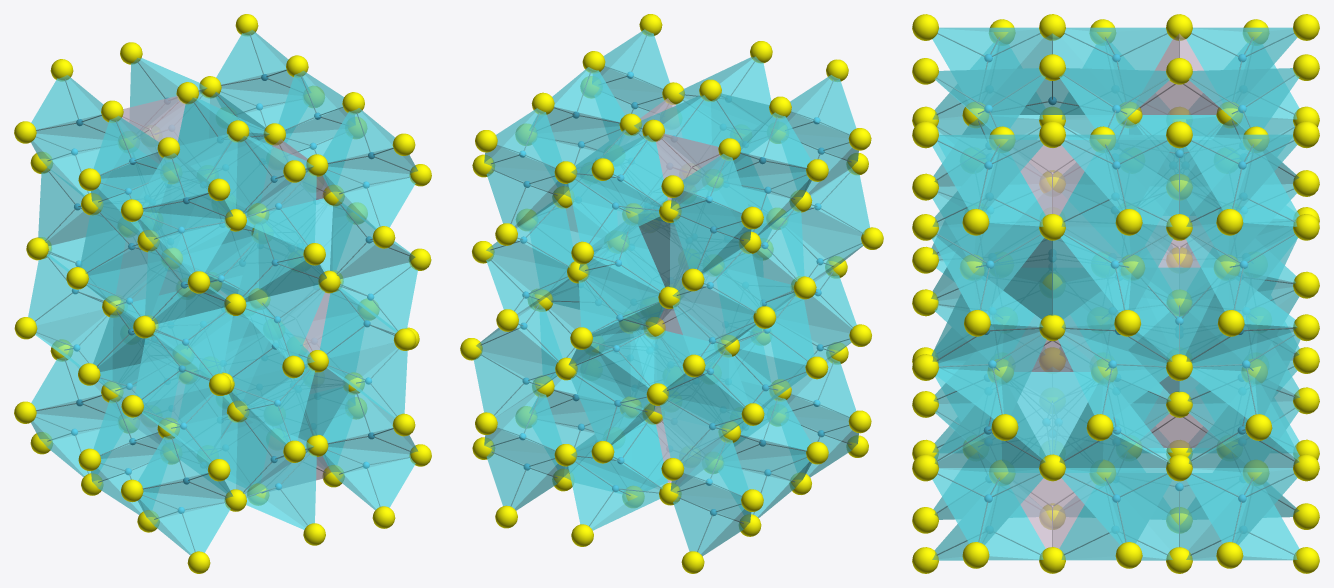
File: Li10GeP2S12.glb
The picture shows the model from 3 angles, left to right: view 1: azimuth 30°, elevation 25°; view 2: azimuth 150°, elevation 25°; view 3: azimuth 270°, elevation 25°; orthographic projection. The views are drawn at different scales.
Visible parts, largest first — view 1: Shape_IndexedFaceSet, atom7_IndexedFaceSet, Shape_IndexedFaceSet.376, Shape_Cylinder, atom0_IndexedFaceSet; view 2: Shape_IndexedFaceSet, atom7_IndexedFaceSet, Shape_IndexedFaceSet.376, Shape_Cylinder, atom0_IndexedFaceSet; view 3: Shape_IndexedFaceSet, atom7_IndexedFaceSet, Shape_IndexedFaceSet.376, Shape_Cylinder, atom0_IndexedFaceSet.
Boxes of the visible parts, box(x1,y1,x2,y2) form: Shape_IndexedFaceSet: box(28, 30, 417, 555); atom7_IndexedFaceSet: box(14, 14, 431, 573); Shape_IndexedFaceSet.376: box(116, 96, 343, 491); Shape_Cylinder: box(35, 34, 411, 551); atom0_IndexedFaceSet: box(71, 74, 374, 513); Shape_IndexedFaceSet: box(473, 29, 869, 556); atom7_IndexedFaceSet: box(460, 14, 883, 573); Shape_IndexedFaceSet.376: box(620, 98, 725, 486); Shape_Cylinder: box(480, 34, 862, 551); atom0_IndexedFaceSet: box(519, 71, 824, 516); Shape_IndexedFaceSet: box(931, 27, 1300, 560); atom7_IndexedFaceSet: box(912, 14, 1319, 573); Shape_IndexedFaceSet.376: box(1008, 33, 1221, 548); Shape_Cylinder: box(936, 33, 1294, 555); atom0_IndexedFaceSet: box(983, 54, 1250, 502).
Size of the model in its own units: 13.99 by 17.54 by 13.99.
